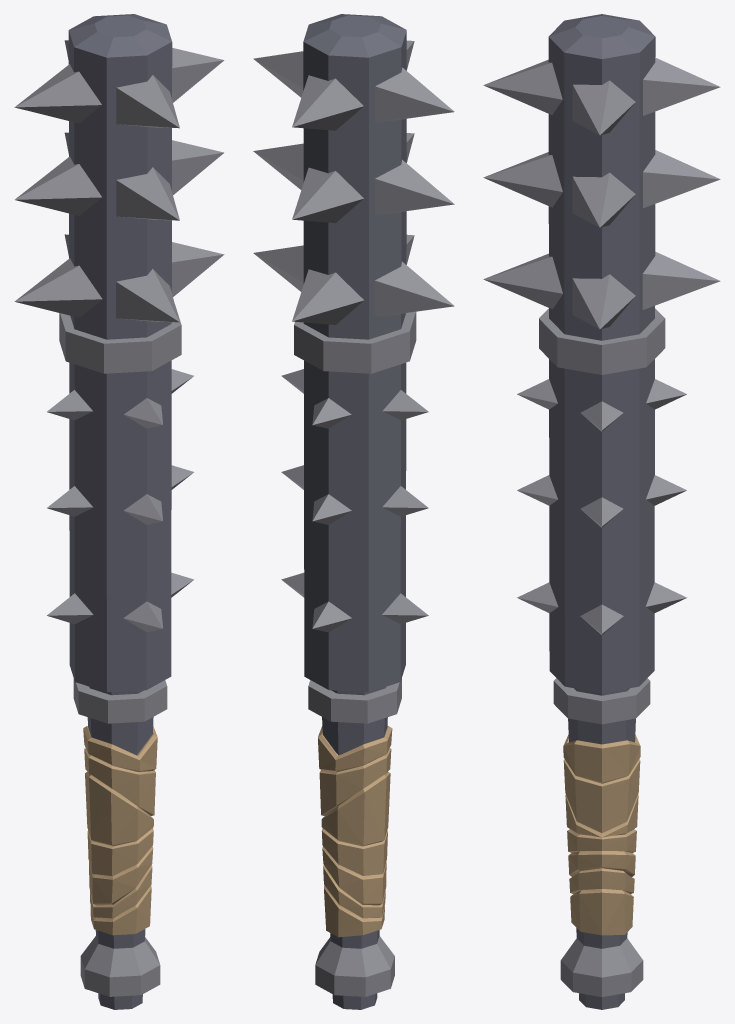
Rendered from _hammer_13.fbx.
The picture shows the model from 3 angles, left to right: view 1: azimuth 30°, elevation 25°; view 2: azimuth 150°, elevation 25°; view 3: azimuth 270°, elevation 25°; orthographic projection.
Visible parts, largest first — view 1: hammer_13; view 2: hammer_13; view 3: hammer_13.
Boxes of the visible parts, box(x1,y1,x2,y2) form: hammer_13: box(14, 14, 224, 1009); hammer_13: box(253, 14, 454, 1009); hammer_13: box(483, 14, 720, 1009).
Size of the model in its own units: 17.62 by 79.59 by 17.63.
